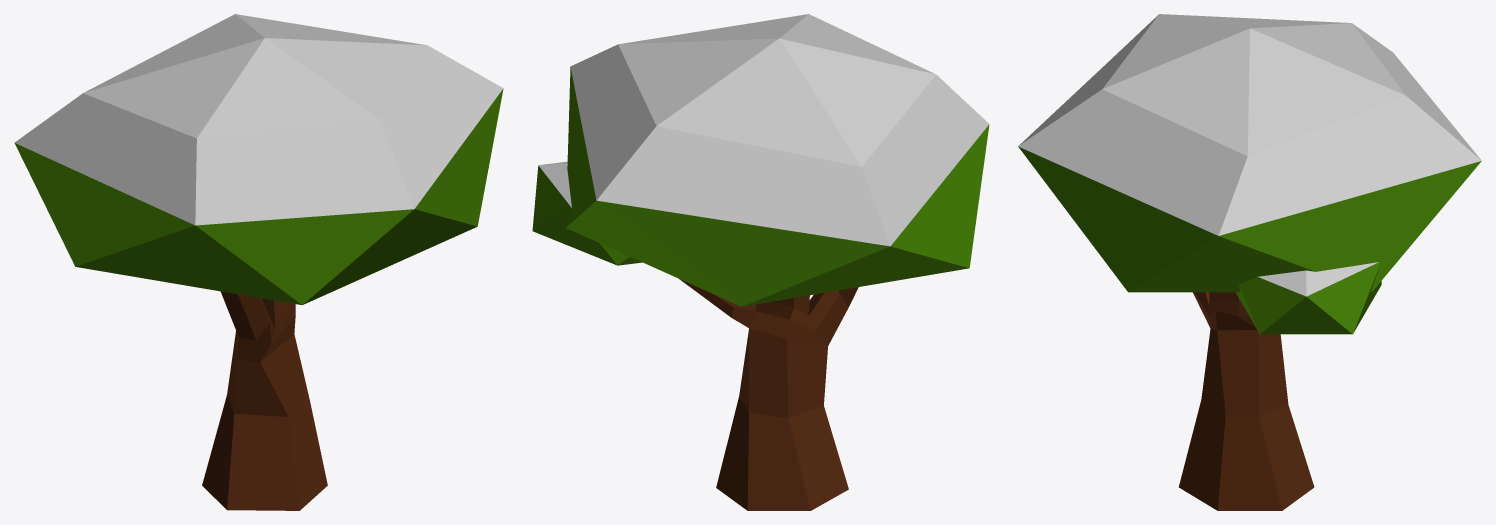
Rendered from OakTree1PartialSnow.fbx.
3 renders of one model, left to right at view 1: azimuth 30°, elevation 25°; view 2: azimuth 150°, elevation 25°; view 3: azimuth 270°, elevation 25°, orthographic. The views are drawn at different scales.
Visible parts, largest first — view 1: Icosphere; view 2: Icosphere; view 3: Icosphere.
Part boxes in pixels (<box>): Icosphere: <box>14,14,503,510</box>; Icosphere: <box>532,14,989,510</box>; Icosphere: <box>1018,14,1481,510</box>.
Size of the model in its own units: 7.05 by 7.3 by 6.68.
